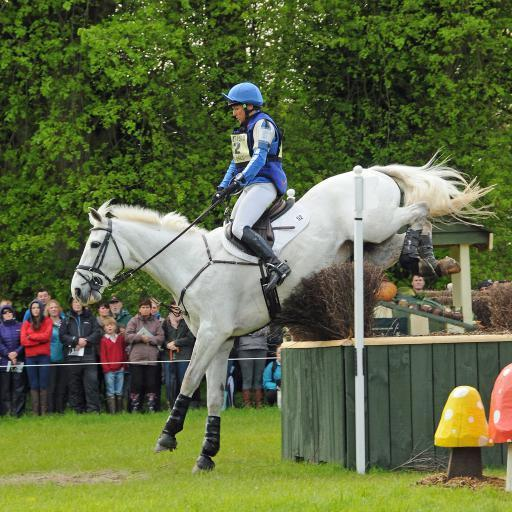horse: (70, 144, 501, 470)
